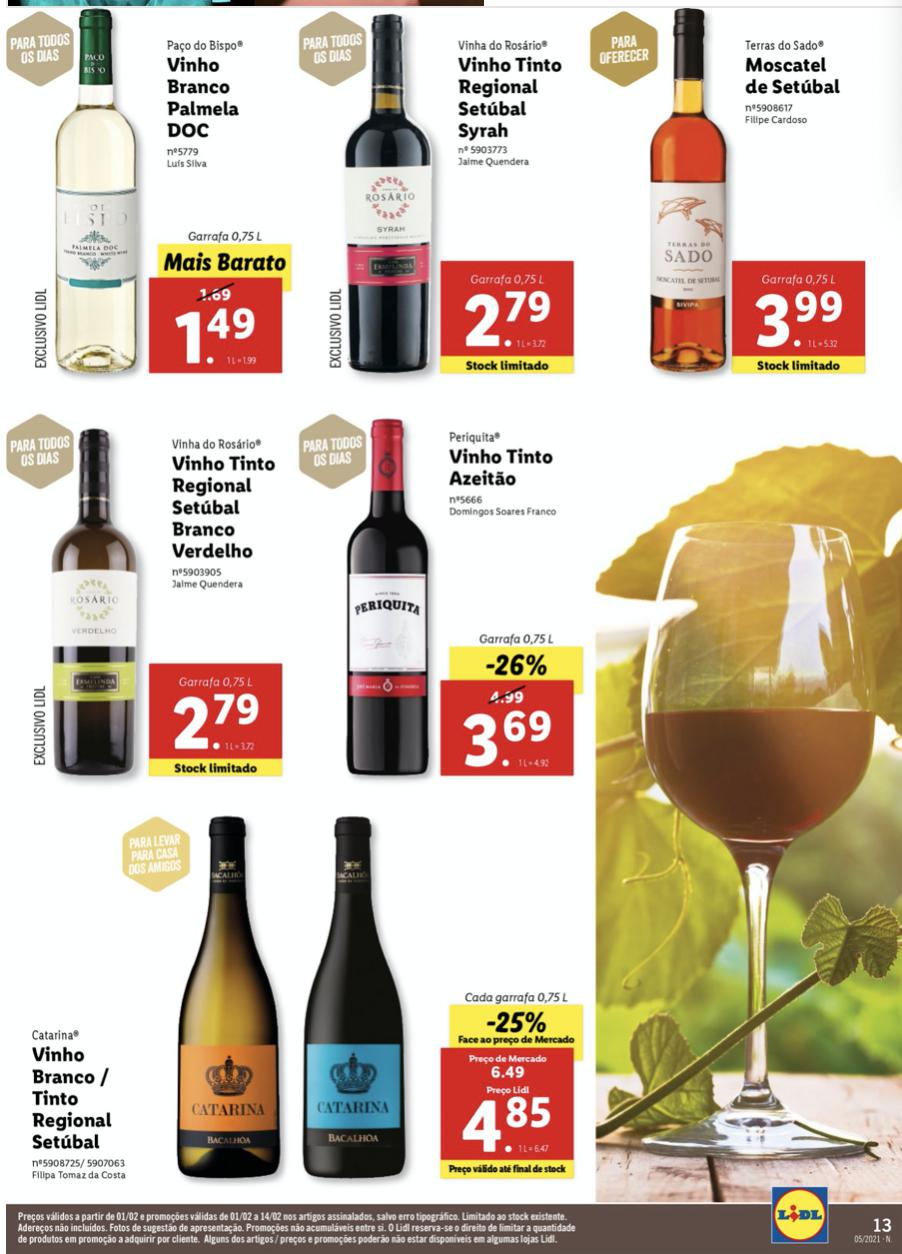name: (160, 446, 282, 562), (24, 1042, 119, 1154), (458, 53, 568, 143), (158, 54, 244, 145), (736, 53, 851, 99), (446, 445, 557, 492)
price: (732, 259, 871, 360), (144, 662, 286, 759), (452, 682, 571, 779), (454, 1081, 566, 1159), (458, 284, 560, 357), (168, 303, 266, 371)
product: (8, 803, 585, 1190), (290, 388, 576, 792), (580, 4, 883, 385), (4, 399, 290, 792), (285, 4, 572, 381), (7, 7, 290, 382)
promotion: (477, 1009, 549, 1037)
